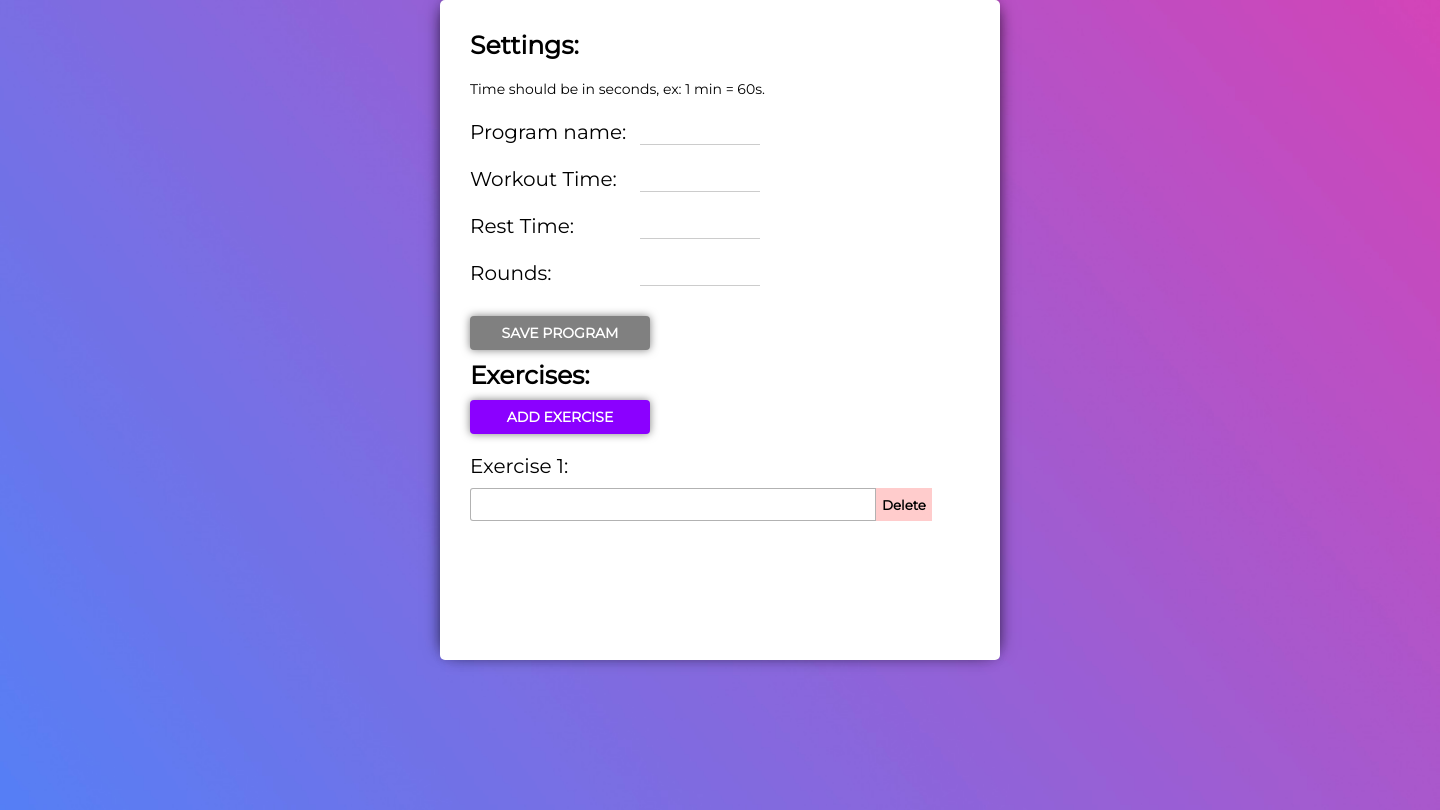
Scenario: Работа функционала › Удаление второго упражнения из массива упражнений
Step 1. Click the button "ADD EXERCISE" → (560, 417), box top-left (470, 400), bottom-right (650, 434)
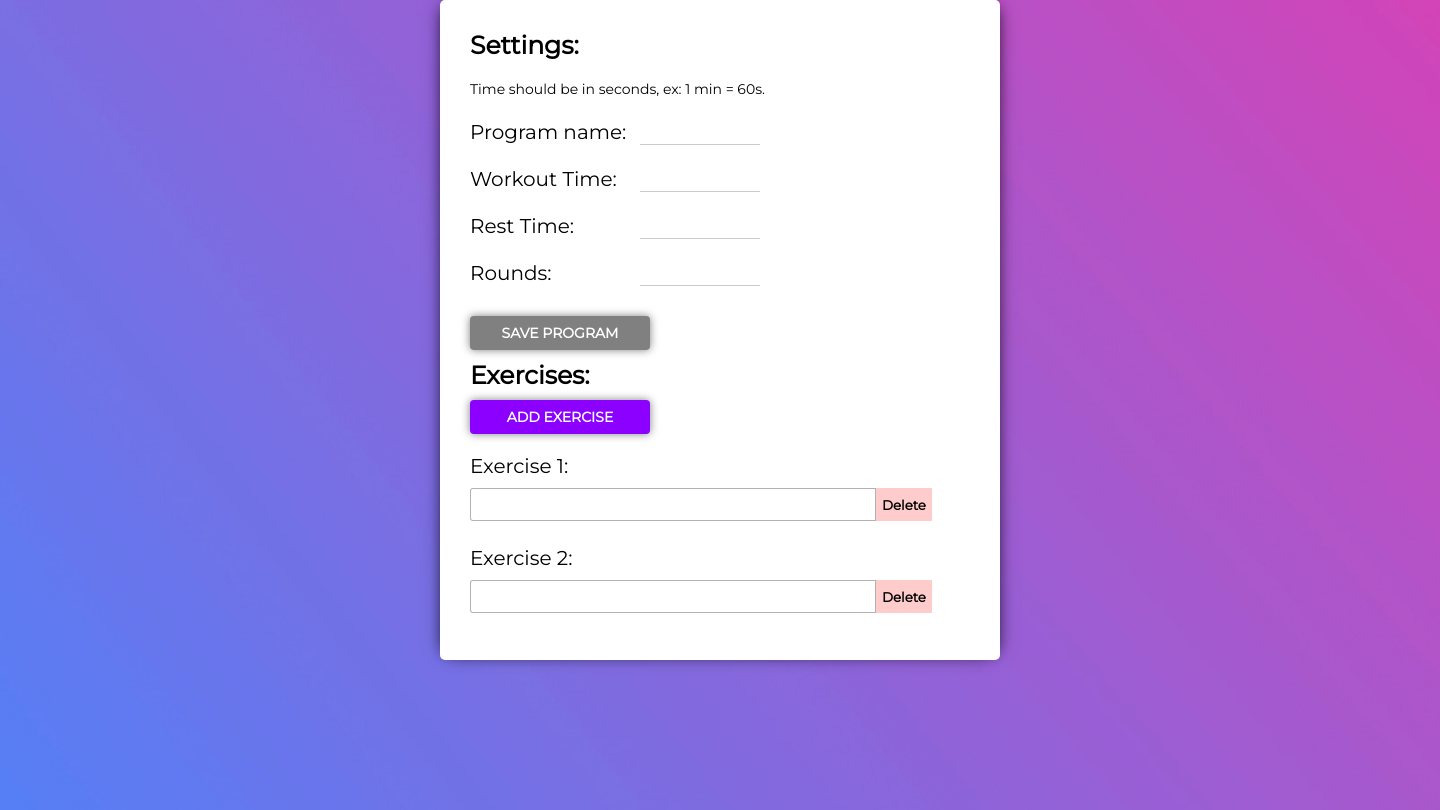
Expected: the text "Exercise 2:" is shown, top-left (470, 546), bottom-right (572, 570)
Step 2. Click the 2nd button "Delete" → (904, 596), box top-left (876, 580), bottom-right (932, 613)
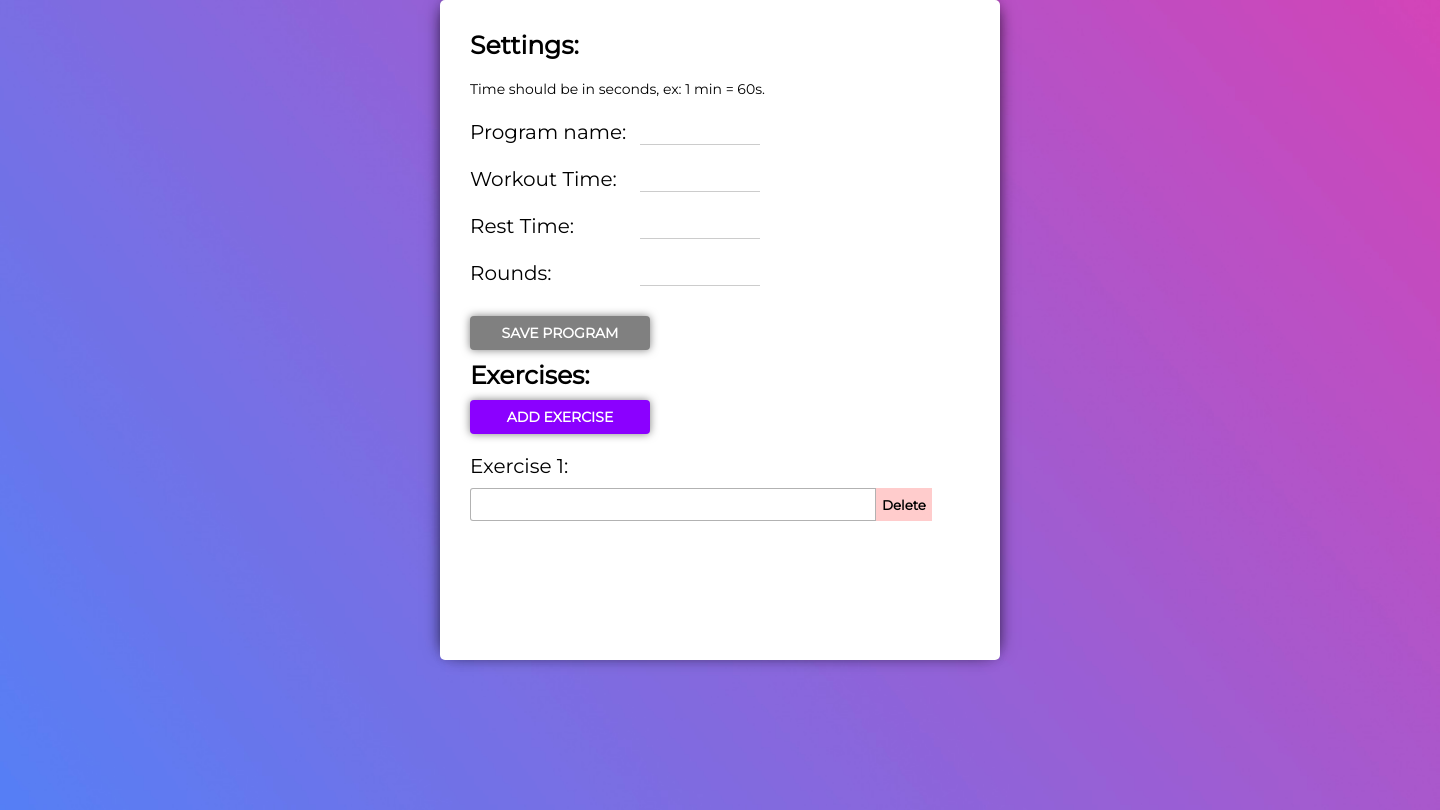
Expected: the text "Exercise 2:" is gone
